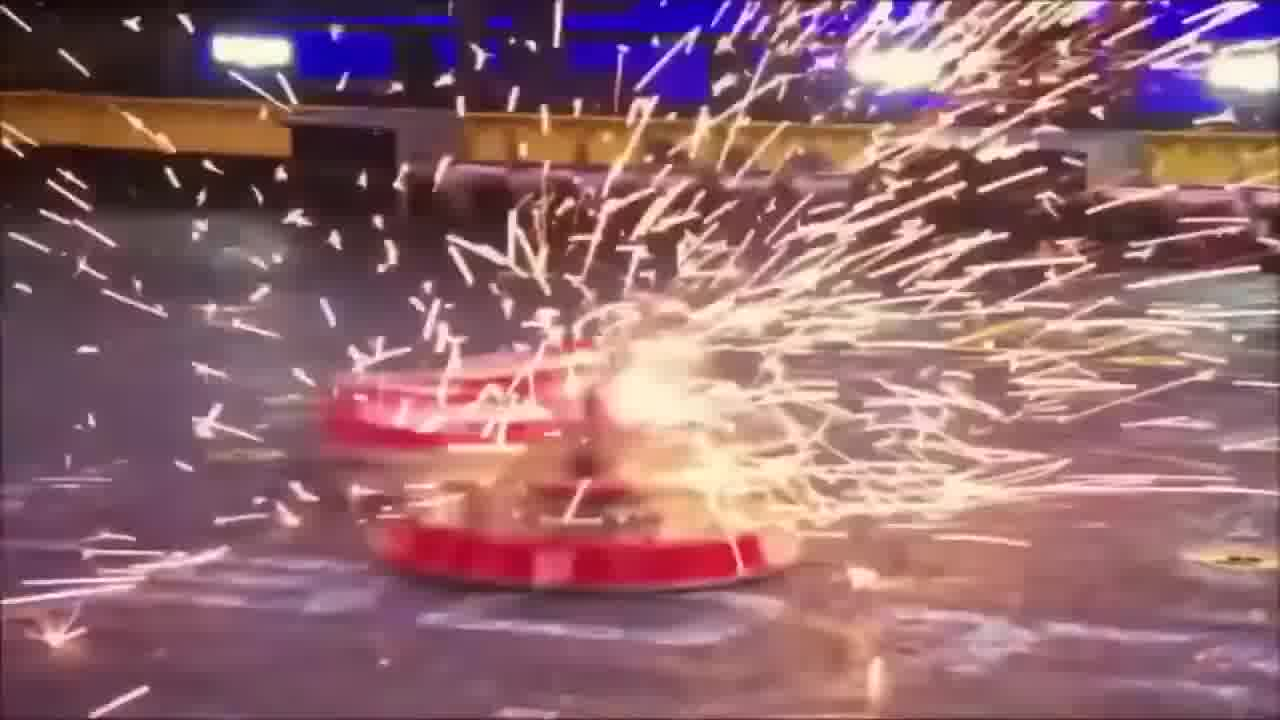combatbot: (356, 415, 803, 603), (320, 357, 620, 446)
